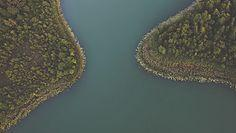mountain: (2, 9, 82, 96), (134, 12, 236, 80)
